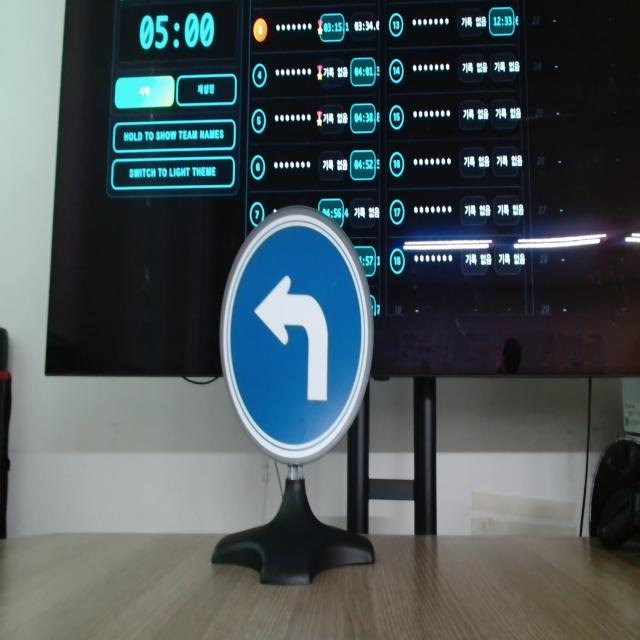left_direction: (212, 198, 398, 486)
